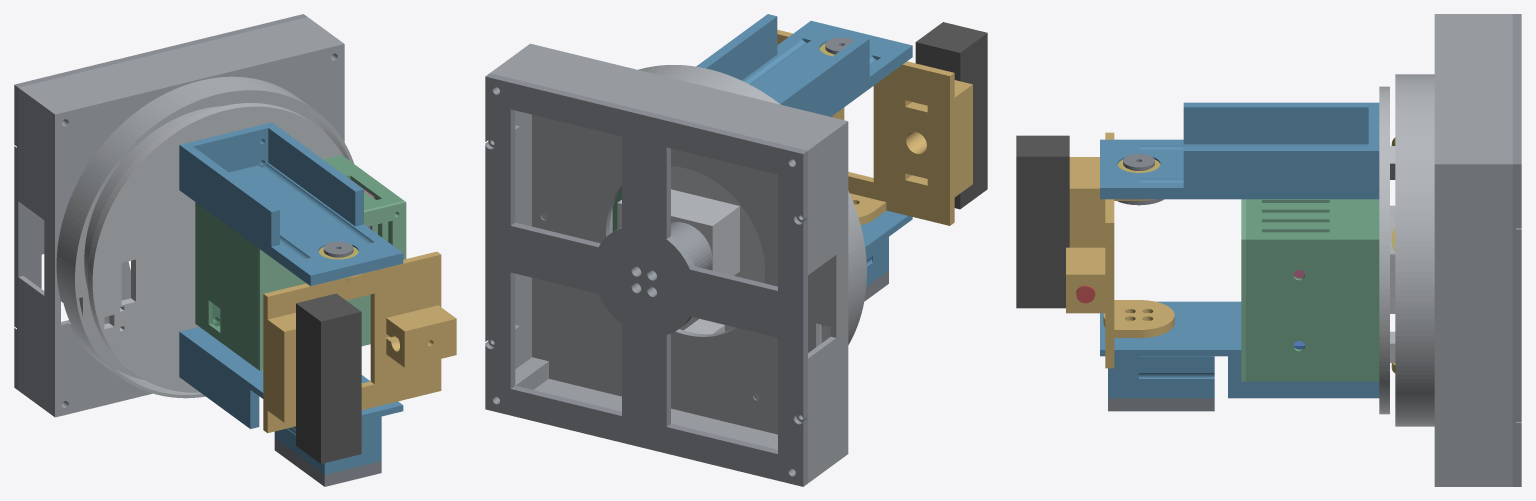
The model's file is turret_assembly.glb.
The picture shows the model from 3 angles, left to right: view 1: azimuth 30°, elevation 25°; view 2: azimuth 150°, elevation 25°; view 3: azimuth 270°, elevation 25°; orthographic projection. The views are drawn at different scales.
Parts seen in each view (by area): view 1: base_frame, turntable, tower_bearing, laser_plate, cable_tray, HW_webcam, ebox, tower_servo, base_floor, ebox_lid, tilt_floor_cap; view 2: base_frame, base_floor, laser_plate, tower_bearing, turntable, HW_webcam, cable_tray, tower_servo; view 3: base_frame, ebox, tower_bearing, cable_tray, tower_servo, laser_plate, HW_webcam, base_floor, turntable, tilt_floor_cap, ebox_lid.
Part boxes in pixels (left/top/right/bottom): base_frame: left=18, top=17, right=344, bottom=417; turntable: left=87, top=103, right=343, bottom=392; tower_bearing: left=179, top=122, right=403, bottom=286; laser_plate: left=263, top=251, right=456, bottom=433; cable_tray: left=56, top=76, right=353, bottom=398; HW_webcam: left=296, top=293, right=361, bottom=463; ebox: left=195, top=155, right=403, bottom=369; tower_servo: left=179, top=327, right=403, bottom=474; base_floor: left=14, top=14, right=307, bottom=389; ebox_lid: left=258, top=201, right=406, bottom=370; tilt_floor_cap: left=274, top=438, right=381, bottom=486; base_frame: left=490, top=43, right=848, bottom=483; base_floor: left=485, top=73, right=807, bottom=486; laser_plate: left=777, top=29, right=972, bottom=225; tower_bearing: left=696, top=14, right=912, bottom=116; turntable: left=609, top=166, right=830, bottom=342; HW_webcam: left=915, top=22, right=987, bottom=209; cable_tray: left=541, top=65, right=866, bottom=399; tower_servo: left=861, top=210, right=912, bottom=286; base_frame: left=1434, top=14, right=1512, bottom=486; ebox: left=1246, top=199, right=1379, bottom=381; tower_bearing: left=1100, top=102, right=1379, bottom=199; cable_tray: left=1395, top=74, right=1434, bottom=426; tower_servo: left=1100, top=301, right=1379, bottom=398; laser_plate: left=1066, top=132, right=1174, bottom=368; HW_webcam: left=1016, top=135, right=1069, bottom=308; base_floor: left=1512, top=14, right=1521, bottom=486; turntable: left=1379, top=86, right=1395, bottom=414; tilt_floor_cap: left=1108, top=398, right=1214, bottom=411; ebox_lid: left=1241, top=199, right=1245, bottom=381.
Size of the model in its own units: 200 by 200 by 284.
